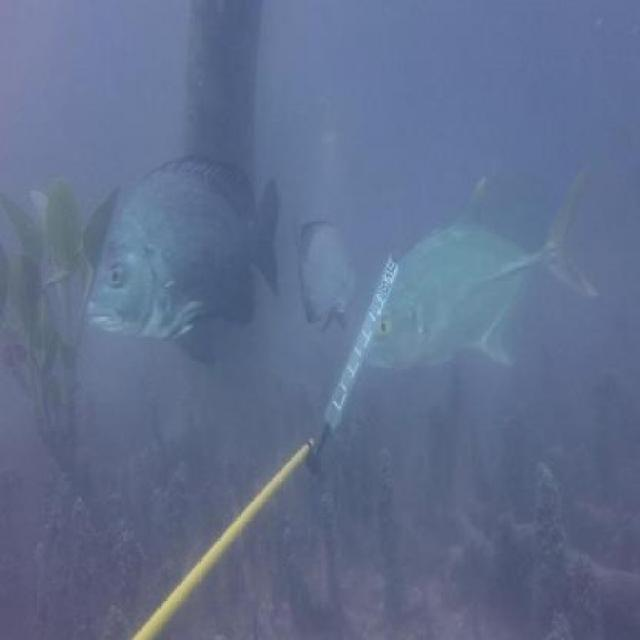Caranx: (365, 154, 600, 383)
acanthopagrus_palmaris: (86, 154, 282, 363), (290, 202, 356, 340)
